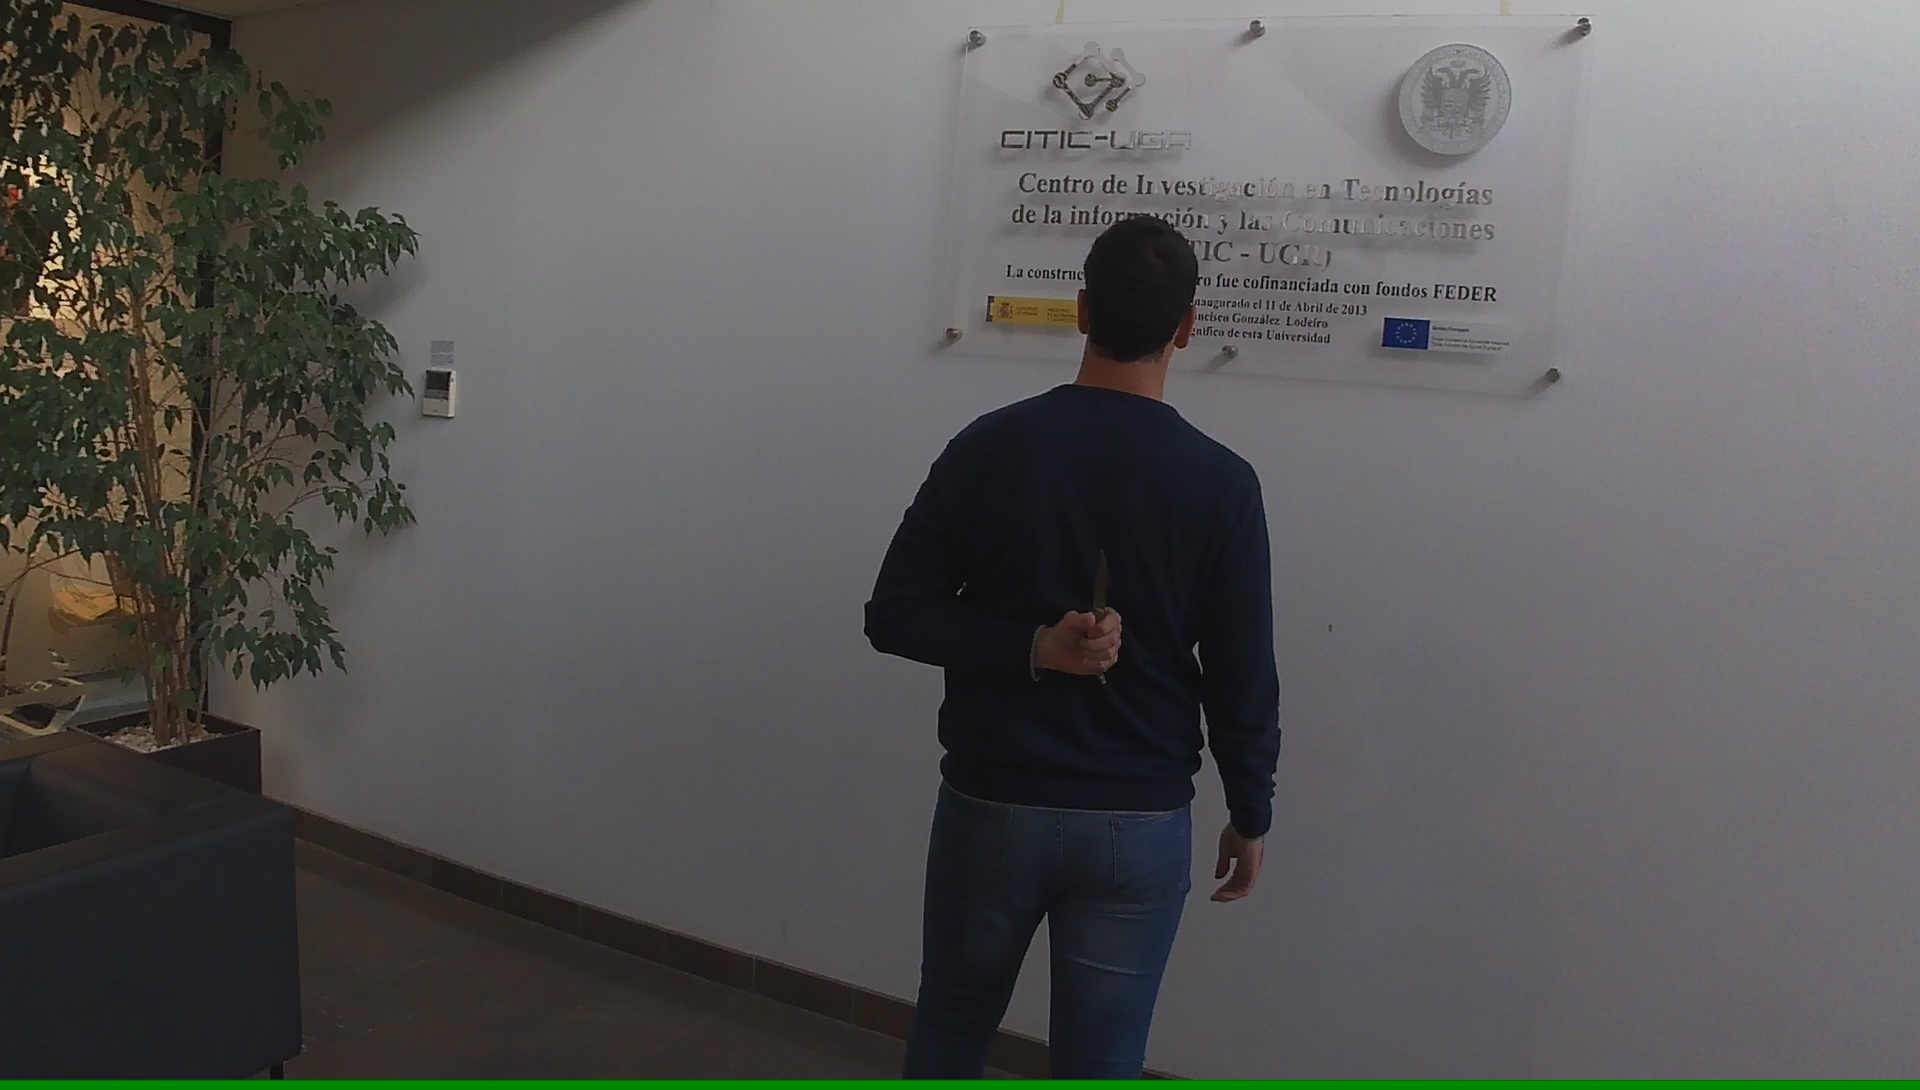knife: (1077, 535, 1130, 693)
